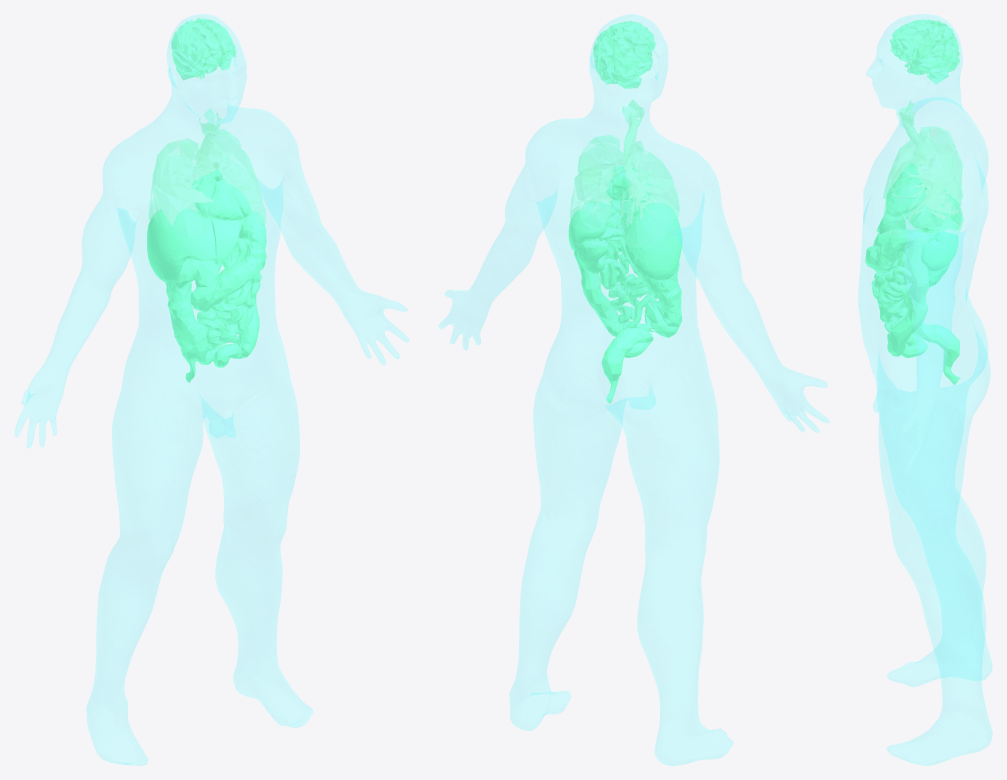
The model's file is body.glb.
3 views of the same model, side by side, from view 1: azimuth 30°, elevation 25°; view 2: azimuth 150°, elevation 25°; view 3: azimuth 270°, elevation 25° (orthographic). The views are drawn at different scales.
Parts seen in each view (by area): view 1: Skin, Lung, LargeInt, Liver, Brain, SmallInt, Heart; view 2: Skin, Lung, LargeInt, Liver, Brain, SmallInt, Spleen, Kidney_L, Heart; view 3: Skin, Lung, LargeInt, Brain, SmallInt, Liver, Heart, Spleen.
Boxes of the visible parts, box(x1,y1,x2,y2) form: Skin: box(15, 14, 408, 765); Lung: box(148, 108, 265, 238); LargeInt: box(166, 210, 266, 382); Liver: box(147, 208, 239, 282); Brain: box(171, 18, 236, 80); SmallInt: box(197, 237, 265, 351); Heart: box(192, 169, 250, 220); Skin: box(439, 14, 828, 765); Lung: box(570, 100, 679, 247); LargeInt: box(574, 201, 681, 403); Liver: box(610, 200, 682, 280); Brain: box(593, 20, 656, 88); SmallInt: box(594, 224, 658, 329); Spleen: box(568, 209, 606, 250); Kidney_L: box(576, 240, 608, 273); Heart: box(606, 165, 651, 203); Skin: box(858, 14, 992, 765); Lung: box(883, 101, 963, 235); LargeInt: box(865, 228, 960, 384); Brain: box(890, 19, 959, 84); SmallInt: box(871, 228, 917, 333); Liver: box(876, 188, 961, 234); Heart: box(886, 163, 926, 216); Spleen: box(921, 217, 958, 271).
Size of the model in its own units: 1.05 by 1.83 by 0.3174.
